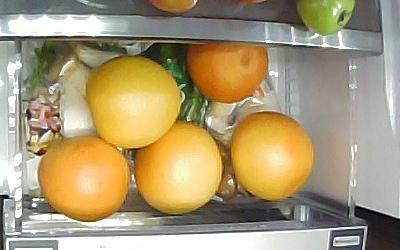grapefruit: (84, 54, 183, 149), (132, 118, 223, 214), (37, 133, 131, 222), (228, 109, 314, 200), (185, 42, 268, 103)
